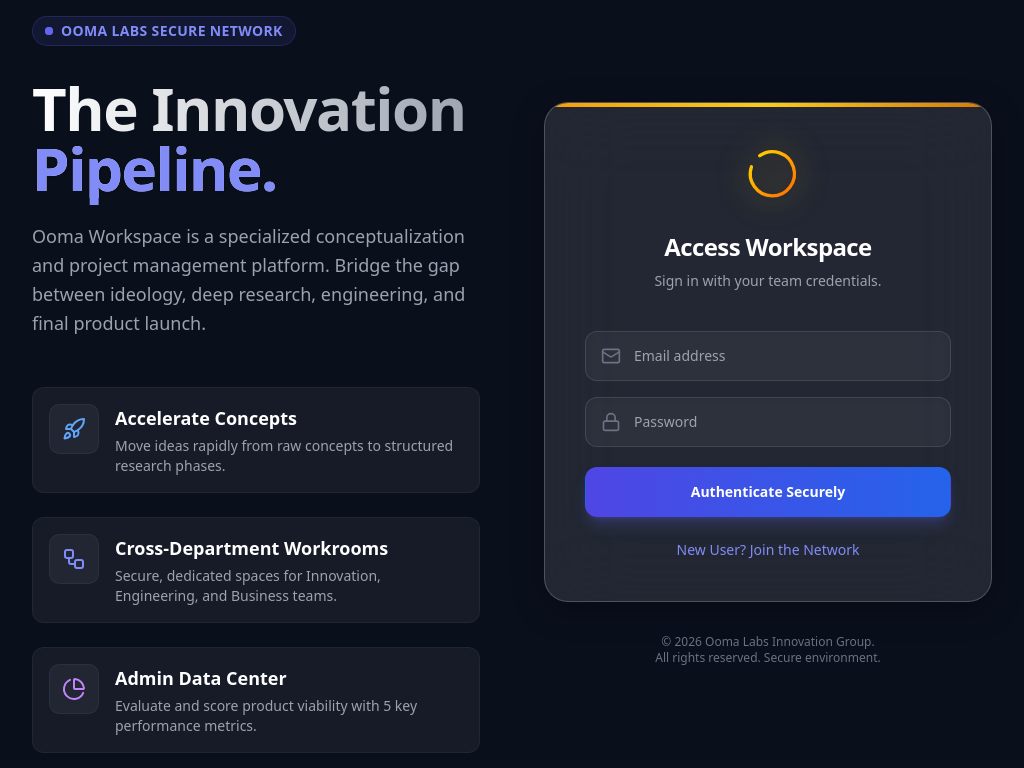
Test: LoginPage › displays error message on login failure
The width and height of the screenshot is (1024, 768).
Type "test@example.com" into the field with placeholder "Email address" at [768, 356], box [585,331,951,381]
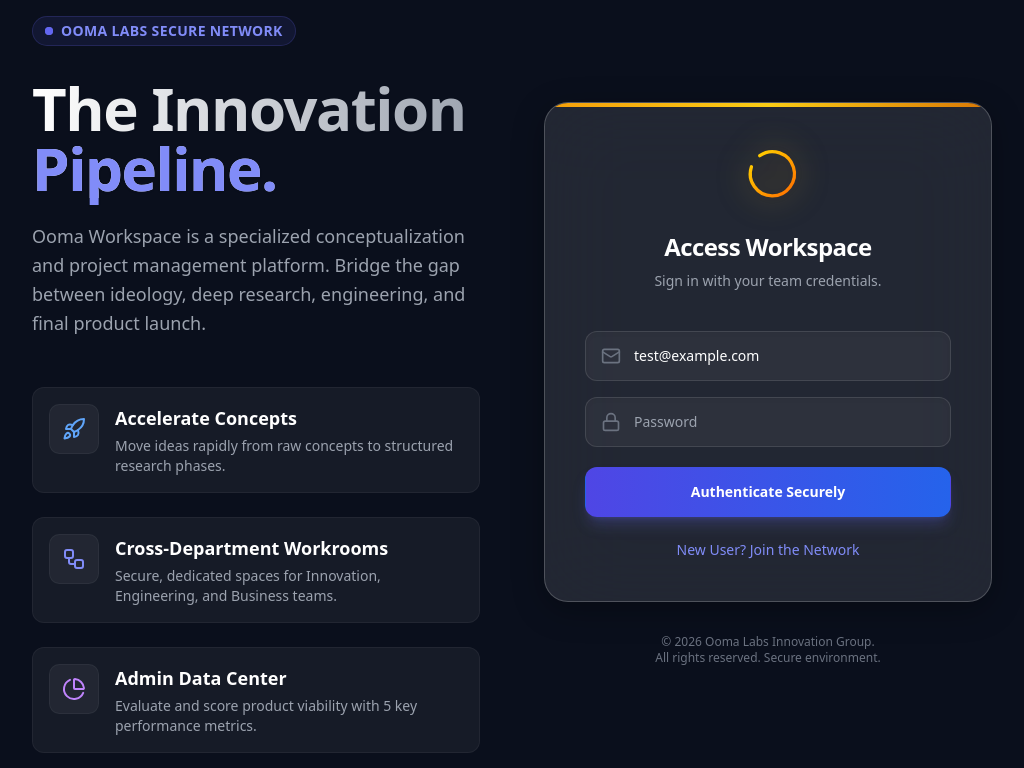
Type "wrong-password" into the password field with placeholder "Password" at [768, 422], box [585,397,951,447]
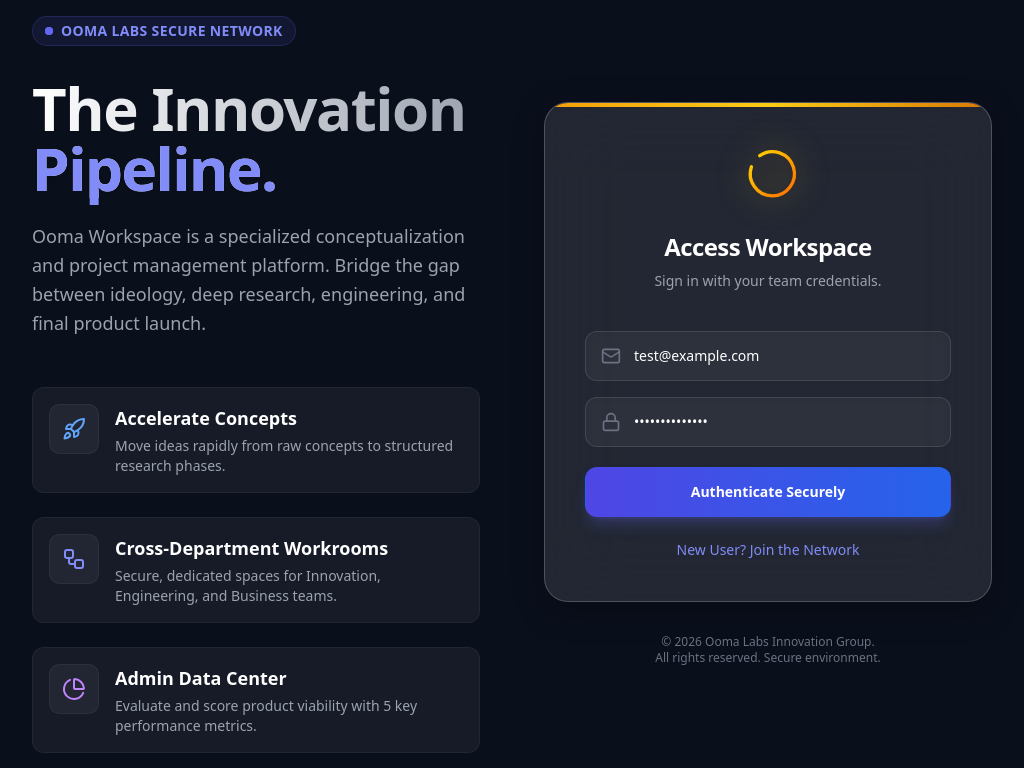
Click the button "Authenticate Securely" at [768, 492], box [585,467,951,517]
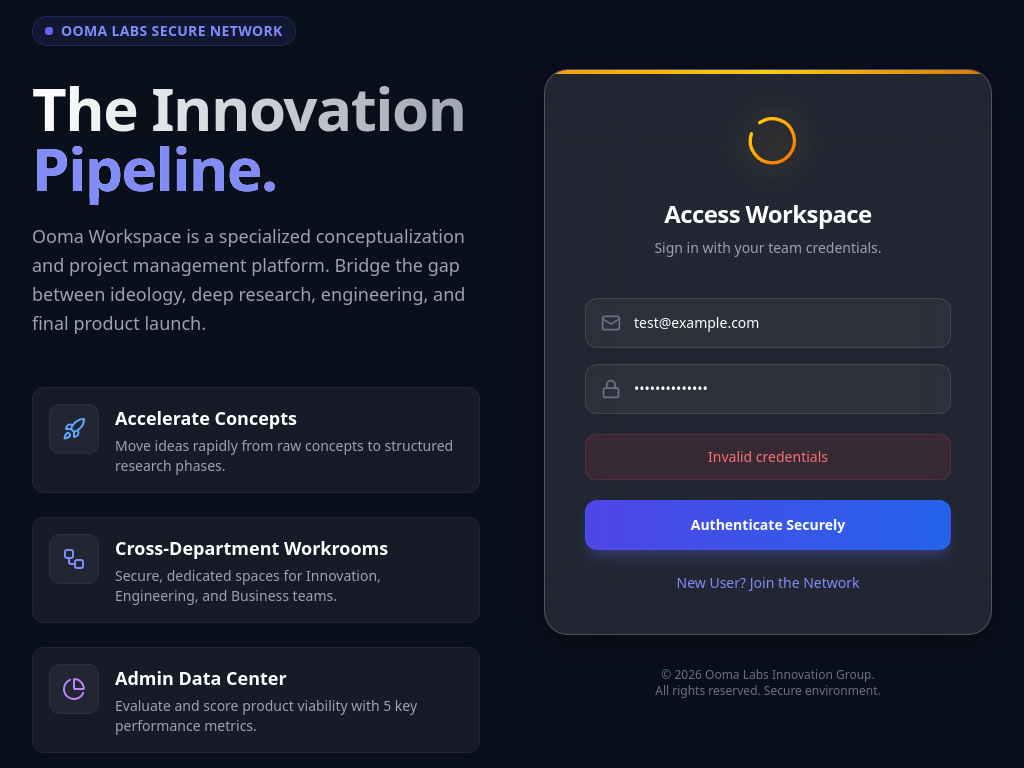
Expected: the text "Invalid credentials" is shown, [708,447,828,466]
